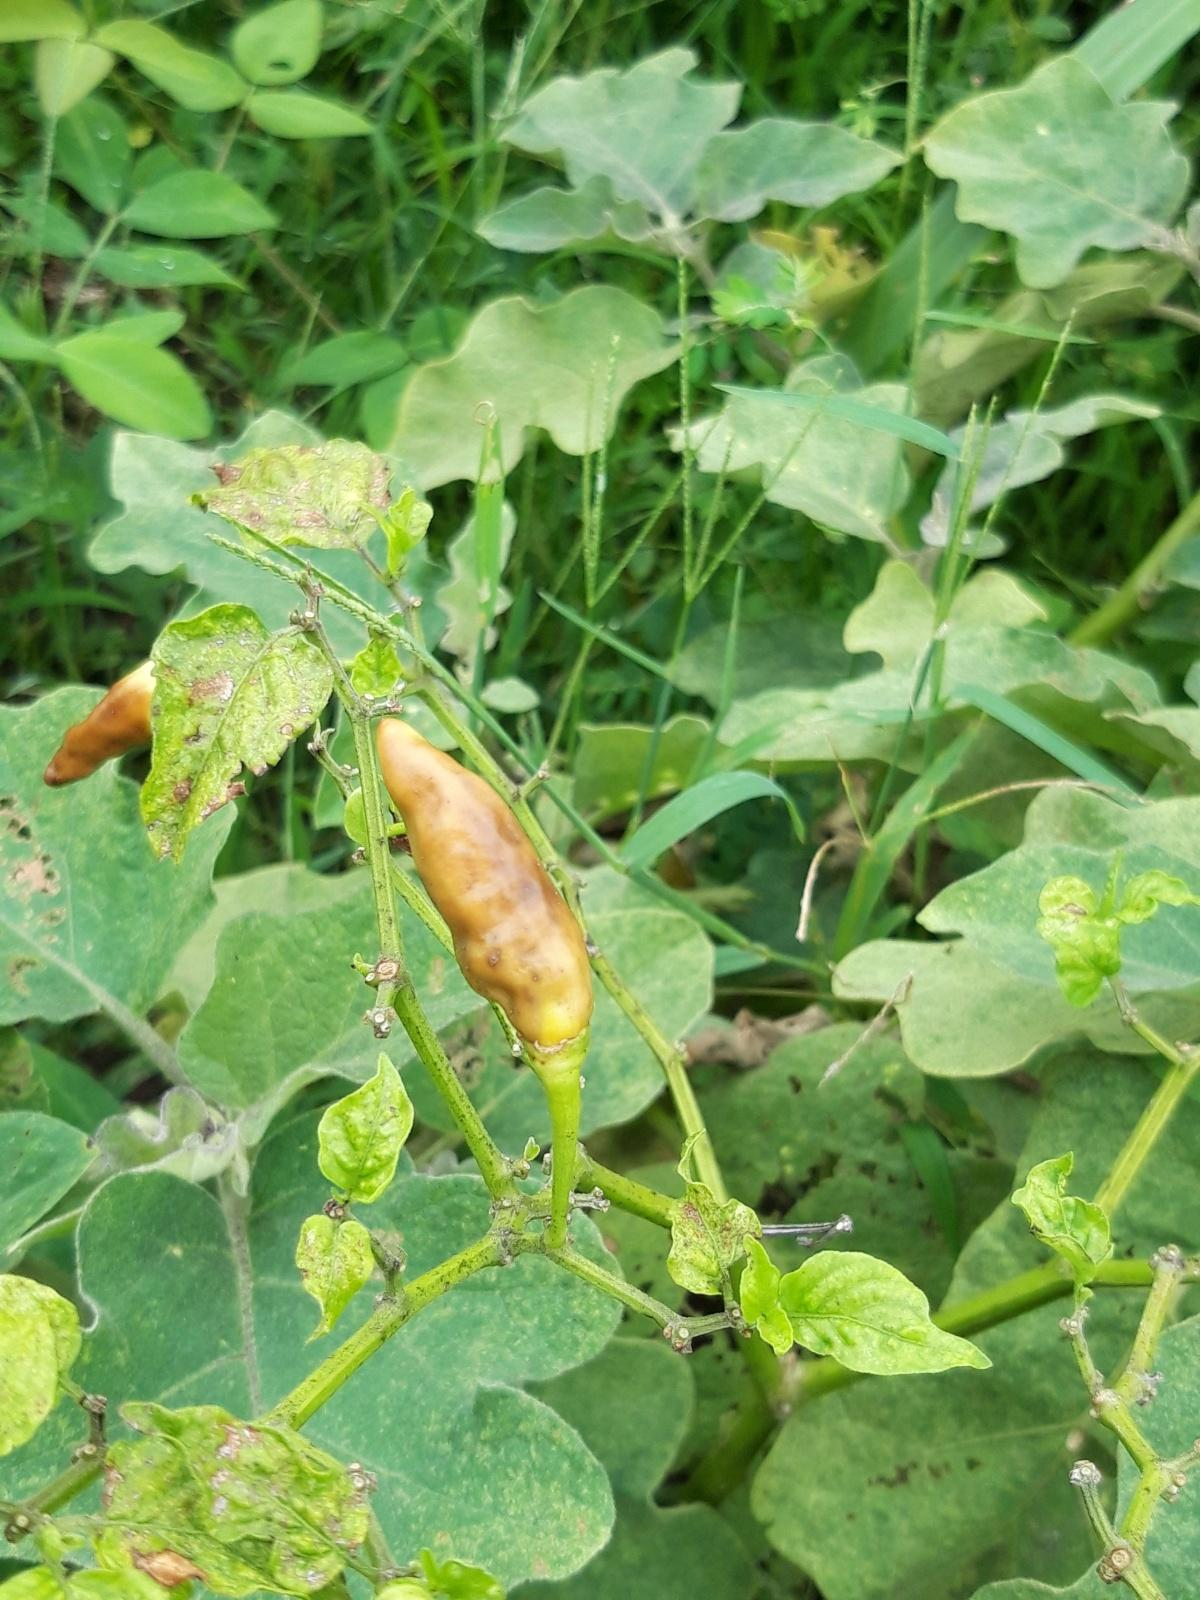lalat_buah: (376, 716, 596, 1073), (44, 659, 160, 786)
